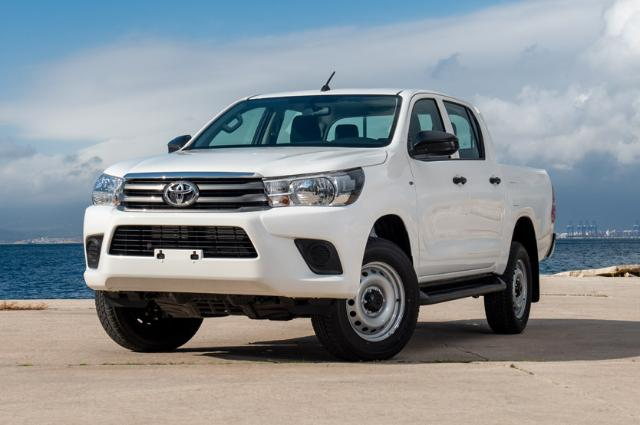pickup-truck: (82, 89, 557, 366)
